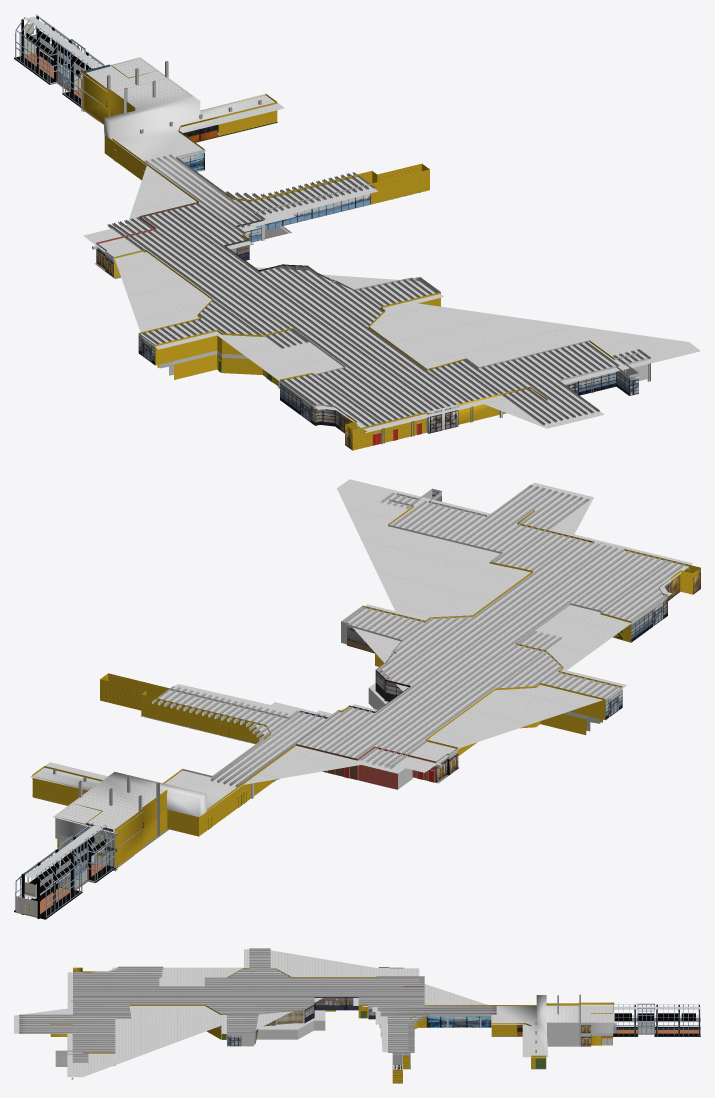
File: center_hallway.fbx
3 views of the same model, one above another, from view 1: azimuth 30°, elevation 25°; view 2: azimuth 150°, elevation 25°; view 3: azimuth 270°, elevation 25° (orthographic). The views are drawn at different scales.
Parts seen in each view (by area): view 1: ROOF_1, PILLAR, WALL_1, WALL_3, WALL_4, corridorWall_N-Center, WALL_2, WALL_5, yhdyskaytava_kaiteet, 1ST_FLOOR; view 2: ROOF_1, PILLAR, WALL_1, WALL_3, WALL_2, corridorWall_N-Center, WALL_4, wall_new, yhdyskaytava_kaiteet, WALL_5, 1ST_FLOOR, pillars_new; view 3: ROOF_1, PILLAR, WALL_1, WALL_2, wall_new, corridorWall_N-Center, yhdyskaytava_kaiteet, WALL_5, 1ST_FLOOR, WALL_3, GROUND_ROOF, WALL_4.
Boxes of the visible parts, x1=… form: ROOF_1: x1=24, y1=16, x2=700, y2=431; PILLAR: x1=92, y1=154, x2=698, y2=444; WALL_1: x1=81, y1=69, x2=429, y2=277; WALL_3: x1=280, y1=358, x2=647, y2=450; WALL_4: x1=138, y1=249, x2=345, y2=380; corridorWall_N-Center: x1=15, y1=14, x2=104, y2=106; WALL_2: x1=224, y1=239, x2=638, y2=372; WALL_5: x1=157, y1=354, x2=278, y2=385; yhdyskaytava_kaiteet: x1=14, y1=30, x2=91, y2=108; 1ST_FLOOR: x1=24, y1=54, x2=506, y2=433; ROOF_1: x1=24, y1=479, x2=692, y2=898; PILLAR: x1=152, y1=484, x2=689, y2=798; WALL_1: x1=32, y1=673, x2=458, y2=867; WALL_3: x1=396, y1=488, x2=700, y2=642; WALL_2: x1=341, y1=499, x2=532, y2=712; corridorWall_N-Center: x1=15, y1=822, x2=114, y2=917; WALL_4: x1=425, y1=603, x2=631, y2=741; wall_new: x1=32, y1=776, x2=106, y2=856; yhdyskaytava_kaiteet: x1=14, y1=836, x2=115, y2=919; WALL_5: x1=368, y1=653, x2=602, y2=755; 1ST_FLOOR: x1=32, y1=680, x2=459, y2=914; pillars_new: x1=53, y1=769, x2=159, y2=871; ROOF_1: x1=14, y1=949, x2=700, y2=1077; PILLAR: x1=19, y1=949, x2=496, y2=1079; WALL_1: x1=358, y1=967, x2=614, y2=1083; WALL_2: x1=83, y1=997, x2=358, y2=1065; wall_new: x1=546, y1=1013, x2=613, y2=1046; corridorWall_N-Center: x1=613, y1=1003, x2=699, y2=1036; yhdyskaytava_kaiteet: x1=613, y1=1013, x2=700, y2=1036; WALL_5: x1=206, y1=1010, x2=335, y2=1039; 1ST_FLOOR: x1=380, y1=1027, x2=700, y2=1083; WALL_3: x1=50, y1=966, x2=162, y2=1066; GROUND_ROOF: x1=258, y1=1010, x2=325, y2=1029; WALL_4: x1=159, y1=948, x2=378, y2=986.
Size of what is drawn, in the model's own units: 82.4 by 13.63 by 187.
